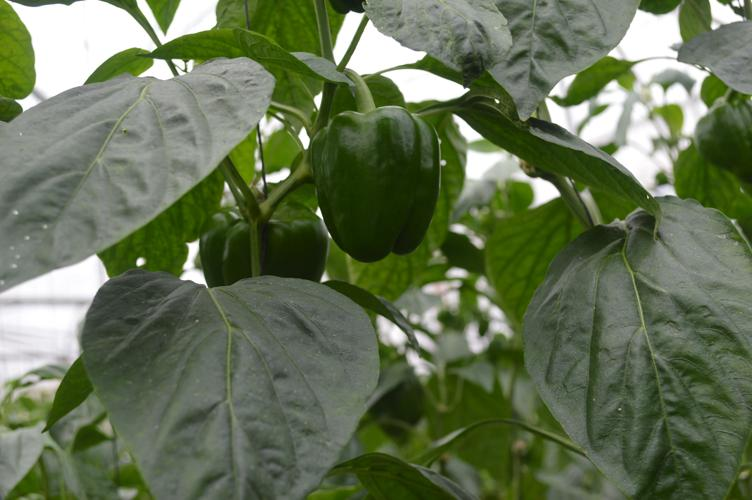BellPepper: (310, 110, 441, 260), (198, 212, 329, 282)
